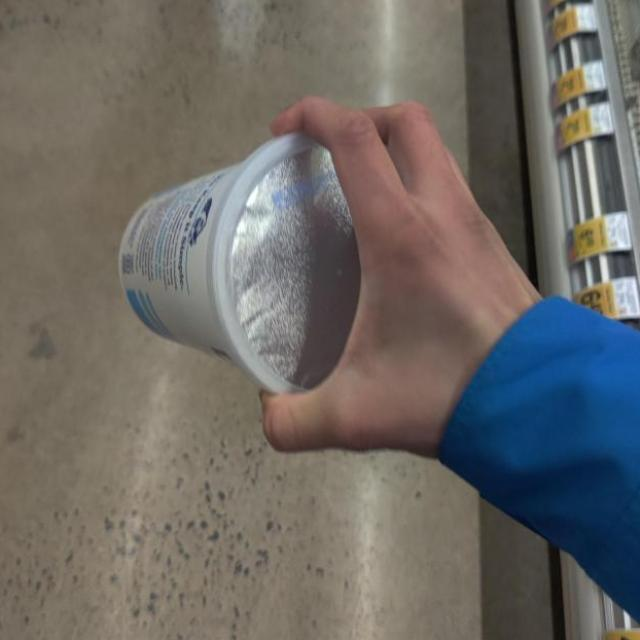Yogurt: (119, 129, 366, 394)
